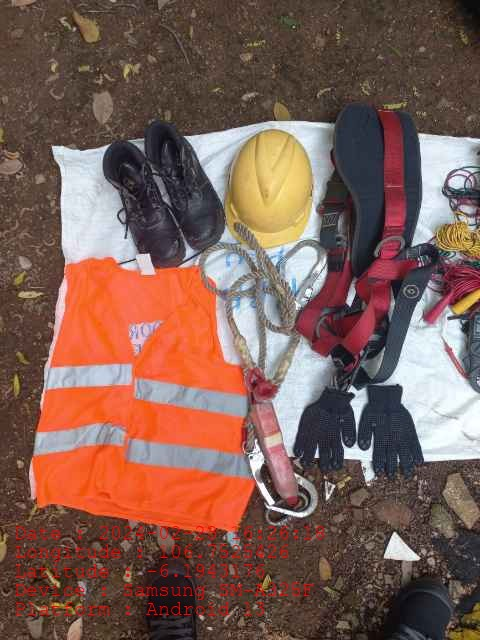ROMPI: (31, 261, 254, 524)
